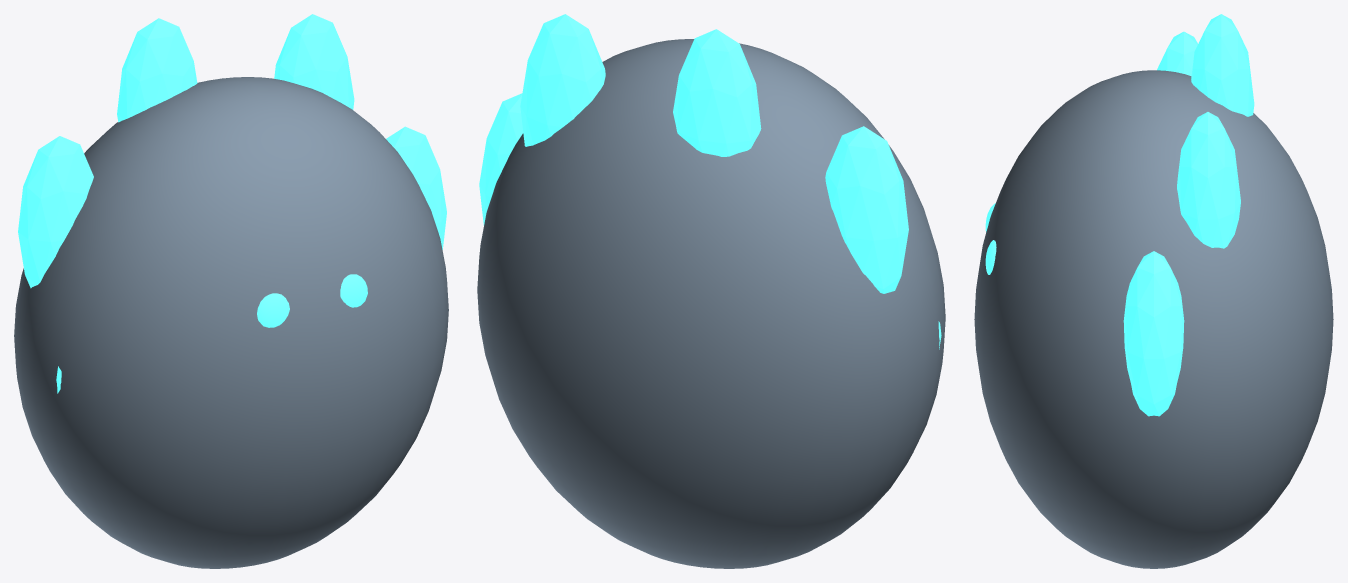
File: elemental.glb
3 views of the same model, side by side, from view 1: azimuth 30°, elevation 25°; view 2: azimuth 150°, elevation 25°; view 3: azimuth 270°, elevation 25° (orthographic). The views are drawn at different scales.
Visible parts, largest first — view 1: CORE_BODY_PRIMARY, ENERGY_SHARD_EMISSIVE.003, ENERGY_SHARD_EMISSIVE.002, ENERGY_SHARD_EMISSIVE.001, ENERGY_SHARD_EMISSIVE, EYE_EMISSIVE, EYE_EMISSIVE.001; view 2: CORE_BODY_PRIMARY, ENERGY_SHARD_EMISSIVE.003, ENERGY_SHARD_EMISSIVE.002, ENERGY_SHARD_EMISSIVE.001, ENERGY_SHARD_EMISSIVE; view 3: CORE_BODY_PRIMARY, ENERGY_SHARD_EMISSIVE, ENERGY_SHARD_EMISSIVE.001, ENERGY_SHARD_EMISSIVE.002, ENERGY_SHARD_EMISSIVE.003.
Boxes of the visible parts, bbox=[...] form: CORE_BODY_PRIMARY: bbox=[14, 77, 448, 568]; ENERGY_SHARD_EMISSIVE.003: bbox=[18, 136, 93, 288]; ENERGY_SHARD_EMISSIVE.002: bbox=[117, 18, 197, 122]; ENERGY_SHARD_EMISSIVE.001: bbox=[274, 14, 354, 109]; ENERGY_SHARD_EMISSIVE: bbox=[386, 126, 446, 249]; EYE_EMISSIVE: bbox=[257, 293, 289, 327]; EYE_EMISSIVE.001: bbox=[340, 274, 367, 307]; CORE_BODY_PRIMARY: bbox=[477, 39, 945, 568]; ENERGY_SHARD_EMISSIVE.003: bbox=[825, 126, 908, 293]; ENERGY_SHARD_EMISSIVE.002: bbox=[673, 29, 761, 156]; ENERGY_SHARD_EMISSIVE.001: bbox=[520, 14, 605, 146]; ENERGY_SHARD_EMISSIVE: bbox=[479, 93, 523, 225]; CORE_BODY_PRIMARY: bbox=[974, 70, 1333, 568]; ENERGY_SHARD_EMISSIVE: bbox=[1123, 251, 1184, 416]; ENERGY_SHARD_EMISSIVE.001: bbox=[1177, 112, 1240, 248]; ENERGY_SHARD_EMISSIVE.002: bbox=[1191, 14, 1254, 116]; ENERGY_SHARD_EMISSIVE.003: bbox=[1157, 31, 1197, 76].
Size of the model in its own units: 1.69 by 2.07 by 1.3.
